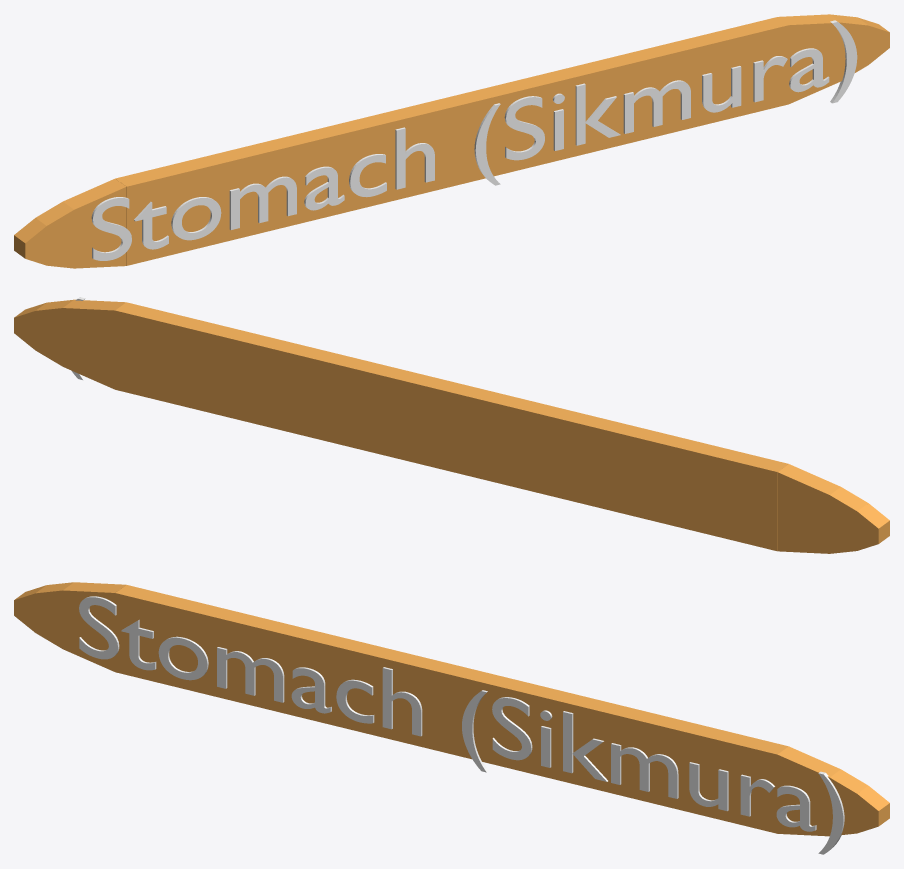
Rendered from txtStomach.fbx.
3 views of the same model, one above another, from view 1: azimuth 30°, elevation 25°; view 2: azimuth 150°, elevation 25°; view 3: azimuth 330°, elevation 25° (orthographic).
Parts seen in each view (by area): view 1: TagContainer.077, Text.078; view 2: TagContainer.077; view 3: TagContainer.077, Text.078.
Part boxes in pixels (bbox=[...]): TagContainer.077: bbox=[14, 14, 889, 268]; Text.078: bbox=[91, 20, 857, 260]; TagContainer.077: bbox=[14, 299, 889, 553]; TagContainer.077: bbox=[14, 582, 889, 836]; Text.078: bbox=[79, 596, 844, 854].
Bounding box in the file's own units: 472 × 45.66 × 11.92.
